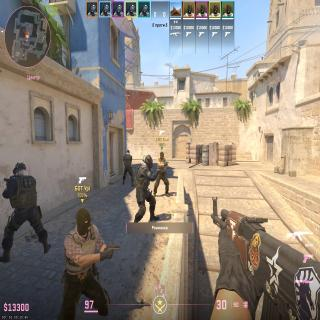CT-Body: (8, 163, 38, 252), (136, 154, 155, 222), (123, 149, 133, 184)
CT-Head: (13, 162, 27, 176), (144, 154, 154, 168), (126, 150, 130, 154)
T-Body: (63, 209, 102, 320), (156, 152, 168, 195)
T-Head: (76, 209, 91, 233), (160, 152, 164, 159)
